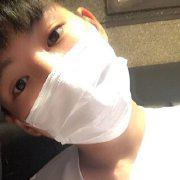OK: (4, 15, 131, 142)
